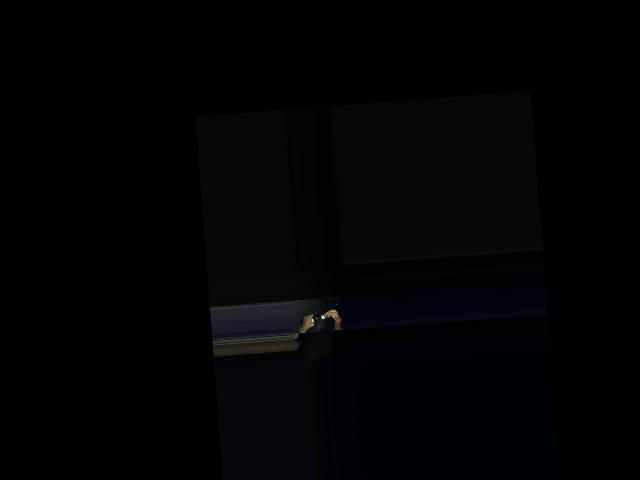beer: (299, 313, 330, 325)
